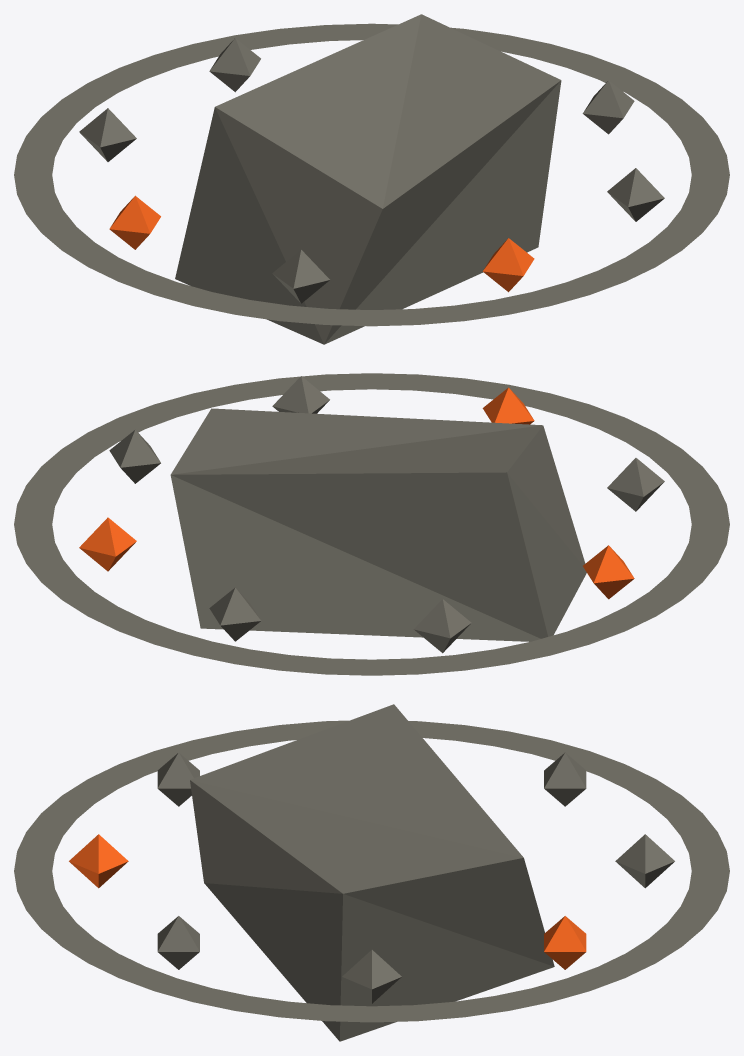
The model's file is golem_orbit_iron.obj.
3 views of the same model, one above another, from view 1: azimuth 30°, elevation 25°; view 2: azimuth 150°, elevation 25°; view 3: azimuth 270°, elevation 25° (orthographic).
Parts seen in each view (by area): view 1: iron_core, forged_orbit_band, iron_rivet_2, iron_rivet_6, iron_rivet_8, iron_rivet_7, iron_rivet_5, iron_rivet_1, iron_rivet_3; view 2: iron_core, forged_orbit_band, iron_rivet_6, iron_rivet_4, iron_rivet_8, iron_rivet_5, iron_rivet_3, iron_rivet_7, iron_rivet_2, iron_rivet_1; view 3: iron_core, forged_orbit_band, iron_rivet_1, iron_rivet_5, iron_rivet_3, iron_rivet_6, iron_rivet_2, iron_rivet_4, iron_rivet_8.
Part boxes in pixels (x1=…): iron_core: x1=175, y1=14, x2=561, y2=344; forged_orbit_band: x1=14, y1=23, x2=729, y2=326; iron_rivet_2: x1=607, y1=168, x2=664, y2=221; iron_rivet_6: x1=79, y1=108, x2=136, y2=161; iron_rivet_8: x1=272, y1=249, x2=329, y2=303; iron_rivet_7: x1=109, y1=195, x2=160, y2=249; iron_rivet_5: x1=209, y1=38, x2=260, y2=92; iron_rivet_1: x1=482, y1=238, x2=534, y2=292; iron_rivet_3: x1=582, y1=80, x2=634, y2=134; iron_core: x1=170, y1=408, x2=586, y2=641; forged_orbit_band: x1=14, y1=373, x2=729, y2=675; iron_rivet_6: x1=414, y1=599, x2=471, y2=653; iron_rivet_4: x1=79, y1=517, x2=136, y2=571; iron_rivet_8: x1=607, y1=458, x2=664, y2=511; iron_rivet_5: x1=209, y1=587, x2=260, y2=641; iron_rivet_3: x1=109, y1=429, x2=160, y2=483; iron_rivet_7: x1=583, y1=545, x2=634, y2=599; iron_rivet_2: x1=272, y1=376, x2=329, y2=413; iron_rivet_1: x1=482, y1=387, x2=534, y2=424; iron_core: x1=190, y1=704, x2=554, y2=1041; forged_orbit_band: x1=14, y1=720, x2=729, y2=1022; iron_rivet_1: x1=69, y1=834, x2=128, y2=888; iron_rivet_5: x1=615, y1=834, x2=674, y2=888; iron_rivet_3: x1=342, y1=950, x2=401, y2=1003; iron_rivet_6: x1=544, y1=752, x2=586, y2=806; iron_rivet_2: x1=157, y1=916, x2=199, y2=969; iron_rivet_4: x1=544, y1=916, x2=586, y2=969; iron_rivet_8: x1=157, y1=752, x2=199, y2=806.
Size of the model in its own units: 1.31 by 0.3897 by 1.31.
